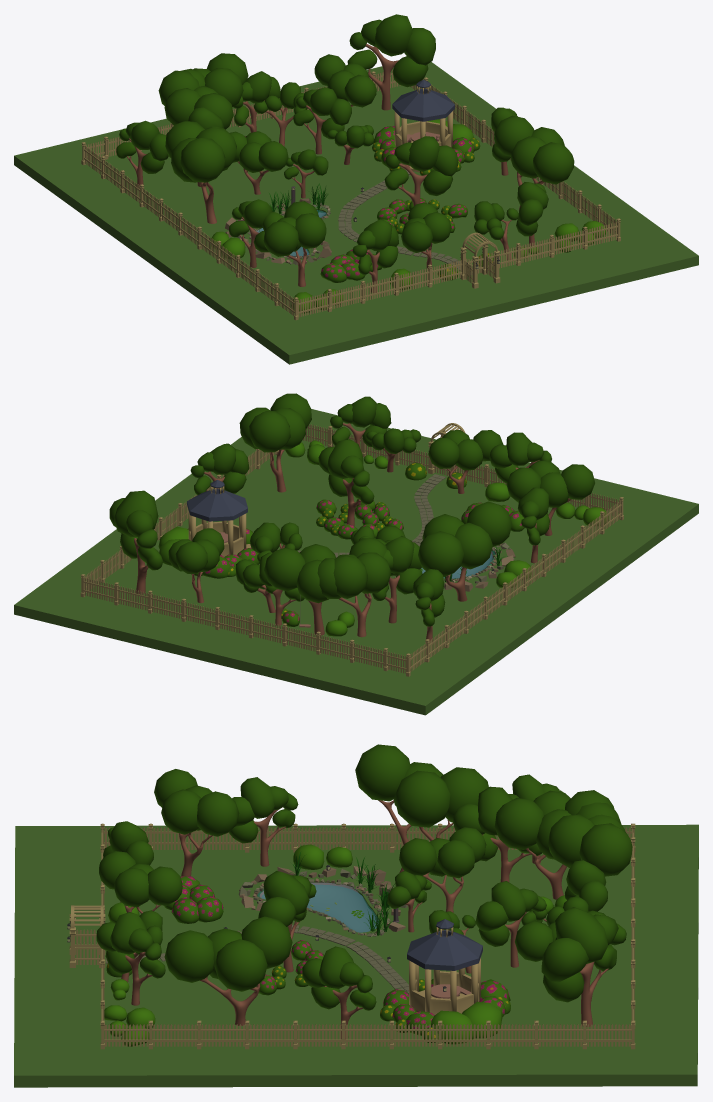
File: garden.glb
3 views of the same model, one above another, from view 1: azimuth 30°, elevation 25°; view 2: azimuth 150°, elevation 25°; view 3: azimuth 270°, elevation 25° (orthographic). The views are drawn at different scales.
Visible parts, largest first — view 1: Ground, Icosphere.083, Roof, Icosphere.089, Icosphere.077, Leaves1.007, Icosphere.082, Icosphere.017, Icosphere.048, Icosphere.091, Icosphere.079, Icosphere.081 (+21 smaller); view 2: Ground, Leaves1.005, Roof, Leaves1.007, Leaves1, Icosphere.083, Icosphere.085, Icosphere.015, Icosphere.077, Icosphere.048, Icosphere.082, Icosphere.018 (+20 smaller); view 3: Ground, Icosphere.084, Roof, Icosphere.083, Pond, Icosphere.090, Leaves1, Icosphere.089, Water, Leaves1.003, Icosphere.077, Leaves1.007 (+40 smaller).
Part boxes in pixels (x1=…): Ground: x1=14, y1=62, x2=698, y2=364; Icosphere.083: x1=180, y1=138, x2=225, y2=182; Roof: x1=392, y1=88, x2=454, y2=121; Icosphere.089: x1=533, y1=142, x2=574, y2=184; Icosphere.077: x1=374, y1=14, x2=412, y2=56; Leaves1.007: x1=494, y1=115, x2=533, y2=156; Icosphere.082: x1=263, y1=221, x2=298, y2=256; Icosphere.017: x1=204, y1=68, x2=243, y2=106; Icosphere.048: x1=164, y1=88, x2=201, y2=125; Icosphere.091: x1=511, y1=136, x2=546, y2=178; Icosphere.079: x1=404, y1=28, x2=435, y2=65; Icosphere.081: x1=295, y1=213, x2=326, y2=248; Ground: x1=14, y1=409, x2=698, y2=715; Leaves1.005: x1=418, y1=531, x2=463, y2=576; Roof: x1=187, y1=488, x2=247, y2=521; Leaves1.007: x1=249, y1=411, x2=290, y2=452; Leaves1: x1=264, y1=547, x2=305, y2=591; Icosphere.083: x1=466, y1=501, x2=512, y2=547; Icosphere.085: x1=455, y1=522, x2=492, y2=569; Icosphere.015: x1=333, y1=555, x2=367, y2=598; Icosphere.077: x1=114, y1=490, x2=158, y2=536; Icosphere.048: x1=357, y1=552, x2=391, y2=593; Icosphere.082: x1=561, y1=464, x2=594, y2=499; Icosphere.018: x1=296, y1=559, x2=328, y2=603; Ground: x1=14, y1=824, x2=698, y2=1087; Icosphere.084: x1=394, y1=770, x2=450, y2=827; Roof: x1=407, y1=930, x2=482, y2=970; Icosphere.083: x1=355, y1=744, x2=410, y2=801; Pond: x1=259, y1=882, x2=378, y2=933; Icosphere.090: x1=214, y1=939, x2=267, y2=991; Leaves1: x1=579, y1=823, x2=632, y2=876; Icosphere.089: x1=164, y1=930, x2=213, y2=982; Water: x1=257, y1=885, x2=378, y2=932; Leaves1.003: x1=494, y1=797, x2=543, y2=849; Icosphere.077: x1=555, y1=907, x2=608, y2=963; Leaves1.007: x1=241, y1=916, x2=292, y2=968.
Size of what is drawn, in the model's own units: 43.74 by 10.67 by 50.46.
25 materials, 2 textured.
